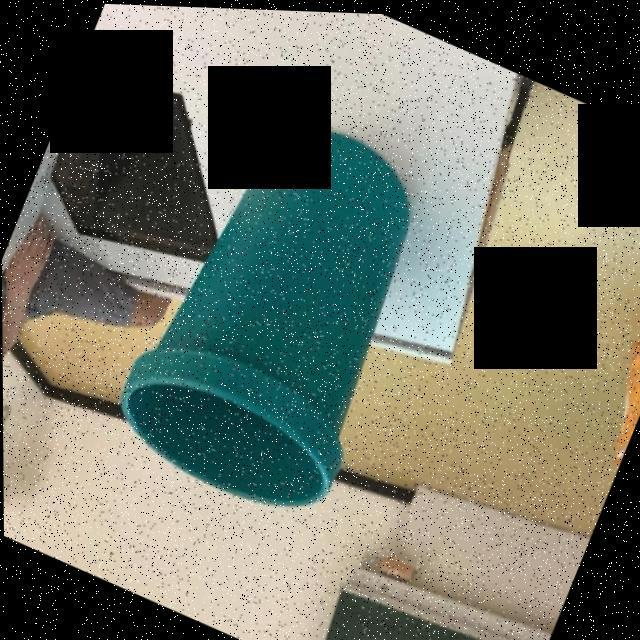bin: (82, 67, 475, 555)
